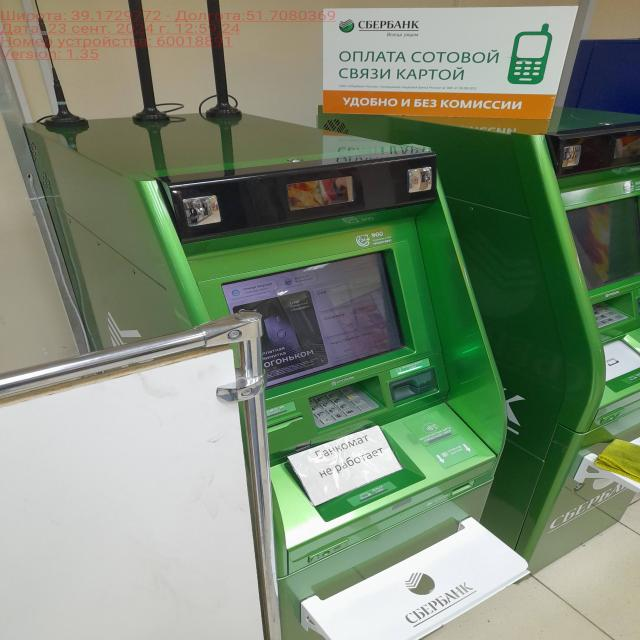bank: (15, 110, 512, 640), (317, 102, 640, 588)
